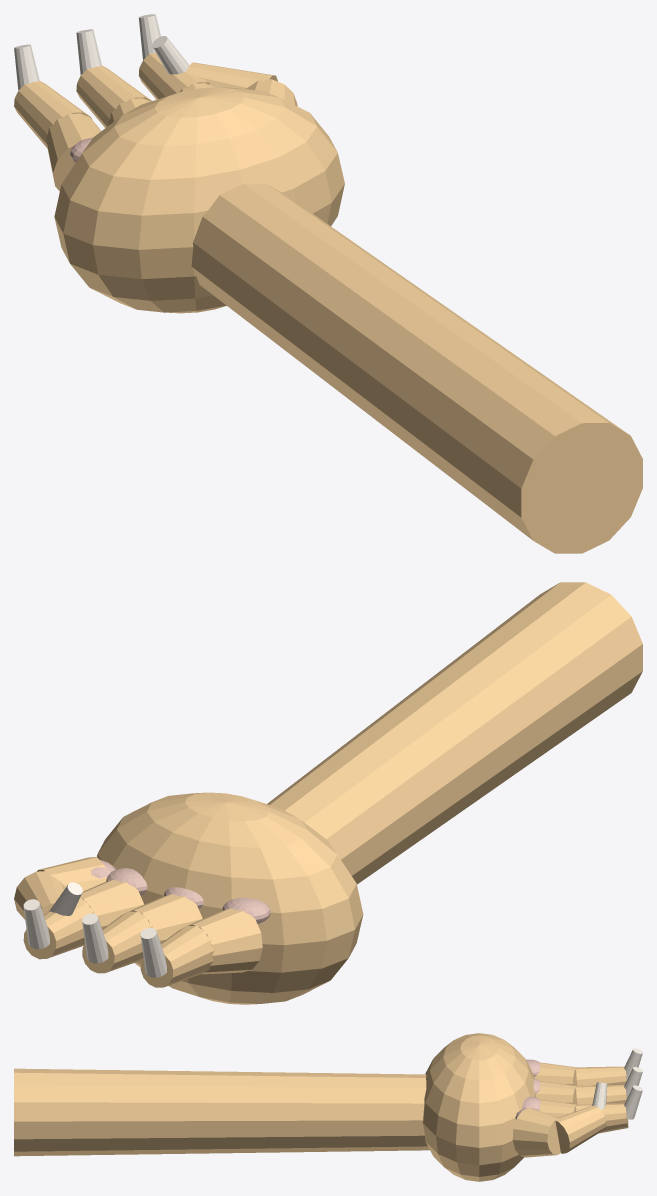
The model's file is paw_quenn.glb.
3 renders of one model, top to bottom at view 1: azimuth 30°, elevation 25°; view 2: azimuth 150°, elevation 25°; view 3: azimuth 270°, elevation 25°, orthographic. The views are drawn at different scales.
Visible parts, largest first — view 1: Paw; view 2: Paw; view 3: Paw.
Boxes of the visible parts, x1,y1,x2,y2 form: Paw: (14,14,642,553); Paw: (14,582,642,1004); Paw: (14,1033,642,1181).
Bounding box in the file's own units: 0.0744 × 0.0504 × 0.2298.
